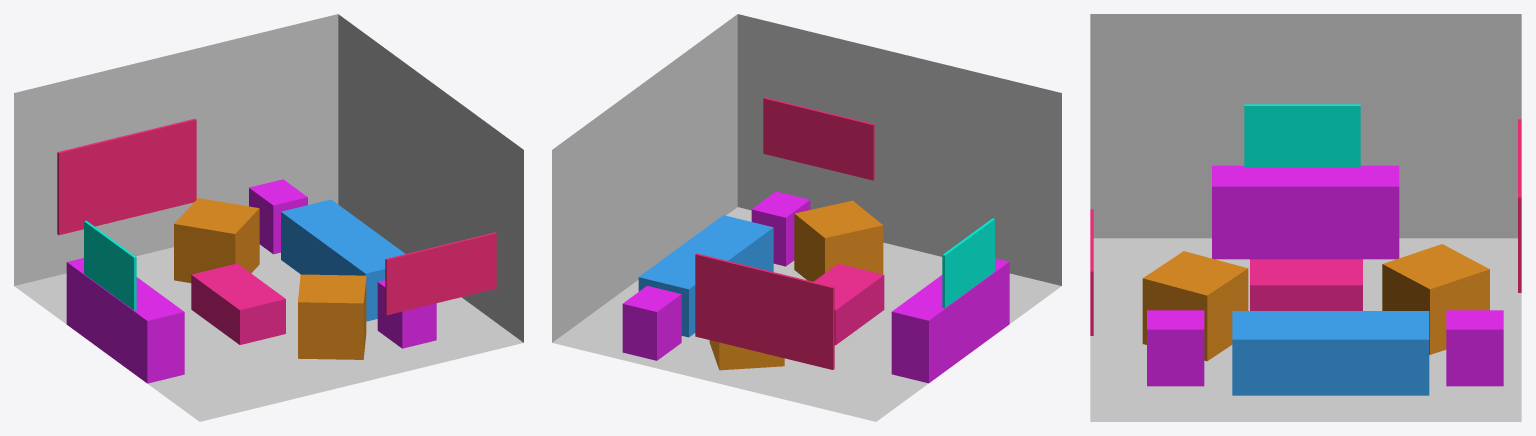
Rendered from livingroom_8016_input.glb.
3 views of the same model, side by side, from view 1: azimuth 30°, elevation 25°; view 2: azimuth 150°, elevation 25°; view 3: azimuth 270°, elevation 25° (orthographic). The views are drawn at different scales.
Visible parts, largest first — view 1: background-volfusion-it1250-test, BBox_0002_painting, BBox_0009_cabinet, BBox_0006_sofa, BBox_0003_painting, BBox_0008_chair, BBox_0007_chair, BBox_0004_table, BBox_0005_television receiver, BBox_0000_cabinet, BBox_0001_cabinet; view 2: background-volfusion-it1250-test, BBox_0002_painting, BBox_0009_cabinet, BBox_0003_painting, BBox_0006_sofa, BBox_0008_chair, BBox_0000_cabinet, BBox_0004_table, BBox_0005_television receiver, BBox_0001_cabinet, BBox_0007_chair; view 3: background-volfusion-it1250-test, BBox_0009_cabinet, BBox_0006_sofa, BBox_0005_television receiver, BBox_0007_chair, BBox_0008_chair, BBox_0004_table, BBox_0000_cabinet, BBox_0001_cabinet, BBox_0002_painting, BBox_0003_painting.
Boxes of the visible parts, bbox=[...] form: background-volfusion-it1250-test: bbox=[14, 14, 523, 421]; BBox_0002_painting: bbox=[57, 118, 196, 235]; BBox_0009_cabinet: bbox=[66, 258, 184, 383]; BBox_0006_sofa: bbox=[281, 199, 405, 321]; BBox_0003_painting: bbox=[385, 232, 496, 315]; BBox_0008_chair: bbox=[298, 274, 366, 359]; BBox_0007_chair: bbox=[174, 198, 259, 282]; BBox_0004_table: bbox=[191, 263, 285, 344]; BBox_0005_television receiver: bbox=[84, 220, 136, 310]; BBox_0000_cabinet: bbox=[249, 179, 307, 254]; BBox_0001_cabinet: bbox=[377, 280, 436, 348]; background-volfusion-it1250-test: bbox=[552, 14, 1061, 421]; BBox_0002_painting: bbox=[695, 253, 834, 369]; BBox_0009_cabinet: bbox=[891, 258, 1009, 383]; BBox_0003_painting: bbox=[763, 97, 874, 180]; BBox_0006_sofa: bbox=[638, 215, 773, 337]; BBox_0008_chair: bbox=[794, 200, 883, 281]; BBox_0000_cabinet: bbox=[622, 285, 681, 360]; BBox_0004_table: bbox=[813, 263, 884, 345]; BBox_0005_television receiver: bbox=[942, 218, 994, 308]; BBox_0001_cabinet: bbox=[751, 191, 810, 266]; BBox_0007_chair: bbox=[709, 340, 784, 370]; background-volfusion-it1250-test: bbox=[1090, 14, 1521, 421]; BBox_0009_cabinet: bbox=[1212, 165, 1399, 259]; BBox_0006_sofa: bbox=[1232, 311, 1429, 395]; BBox_0005_television receiver: bbox=[1244, 104, 1360, 167]; BBox_0007_chair: bbox=[1382, 244, 1489, 354]; BBox_0008_chair: bbox=[1142, 251, 1248, 361]; BBox_0004_table: bbox=[1250, 259, 1362, 310]; BBox_0000_cabinet: bbox=[1446, 310, 1503, 386]; BBox_0001_cabinet: bbox=[1147, 310, 1204, 386]; BBox_0002_painting: bbox=[1518, 119, 1521, 292]; BBox_0003_painting: bbox=[1090, 209, 1093, 335].
Size of the model in its own units: 4.92 by 2.8 by 4.88.
